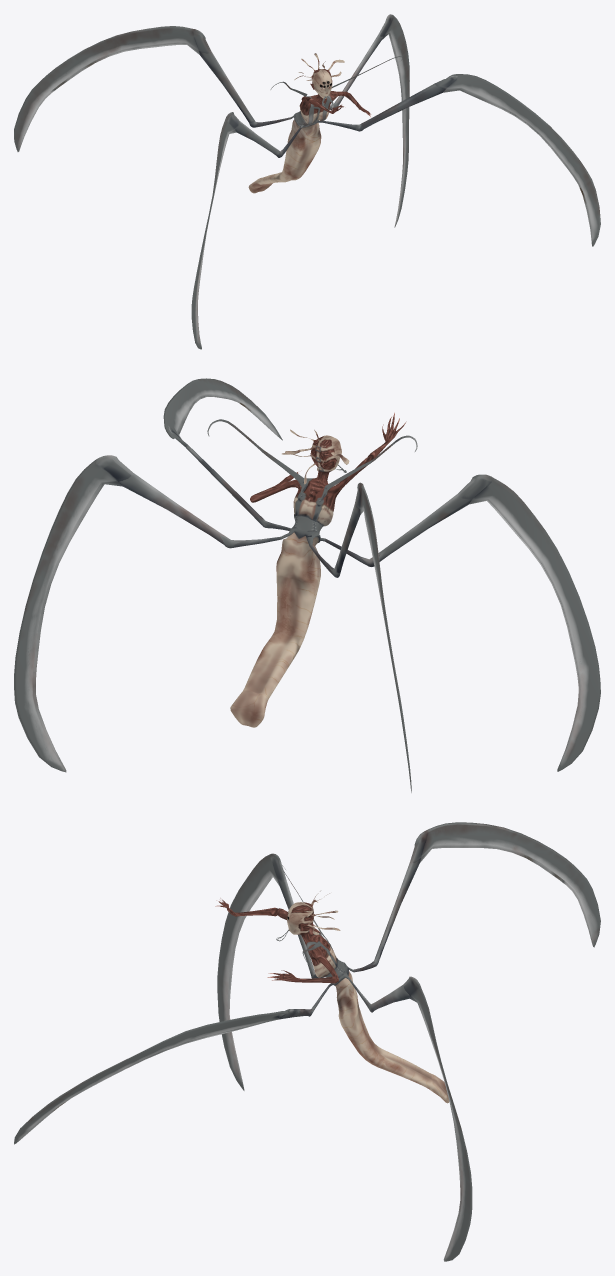
Rendered from Scissors_0.glb.
3 renders of one model, top to bottom at view 1: azimuth 30°, elevation 25°; view 2: azimuth 150°, elevation 25°; view 3: azimuth 270°, elevation 25°, orthographic. The views are drawn at different scales.
Visible parts, largest first — view 1: Scissors_0 Model; view 2: Scissors_0 Model; view 3: Scissors_0 Model.
Boxes of the visible parts, <box> form: Scissors_0 Model: <box>14,14,600,349</box>; Scissors_0 Model: <box>14,378,600,792</box>; Scissors_0 Model: <box>14,822,600,1261</box>.
Size of the model in its own units: 38.55 by 26.68 by 45.9.
Materials: 1 (1 with a texture image).
